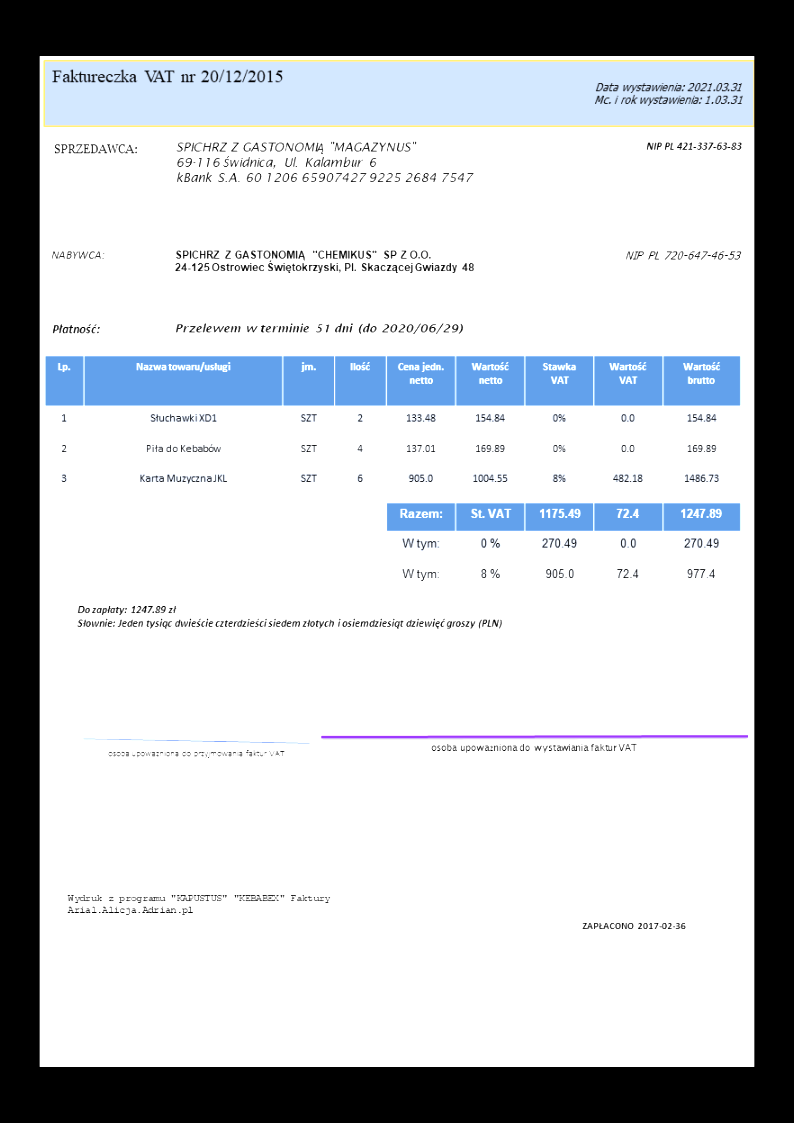Table: (43, 354, 741, 497), (385, 502, 742, 595)
TextBox: (172, 138, 476, 188), (75, 602, 503, 632), (171, 246, 476, 277), (64, 892, 333, 916), (51, 66, 284, 86), (593, 79, 745, 108), (174, 321, 464, 335), (428, 741, 639, 755), (106, 746, 286, 759), (623, 248, 743, 263), (644, 137, 744, 153), (51, 141, 140, 158), (579, 918, 687, 932), (50, 321, 101, 336), (50, 248, 106, 261)
